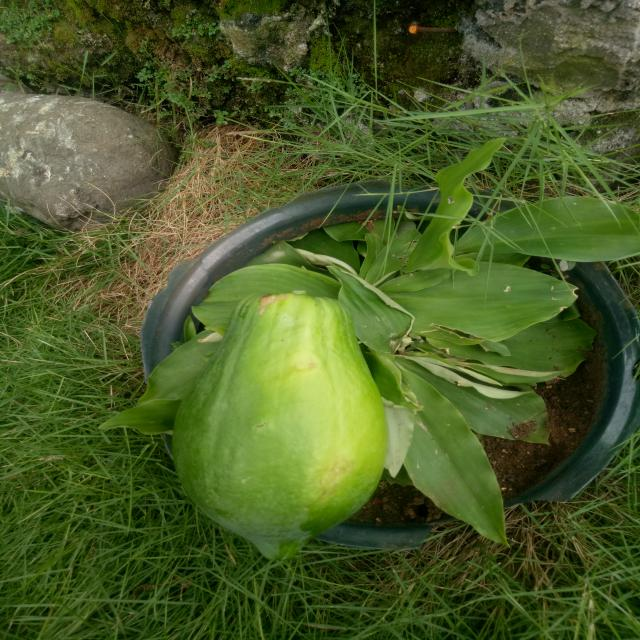Pepaya unrippen: (153, 295, 396, 569)
